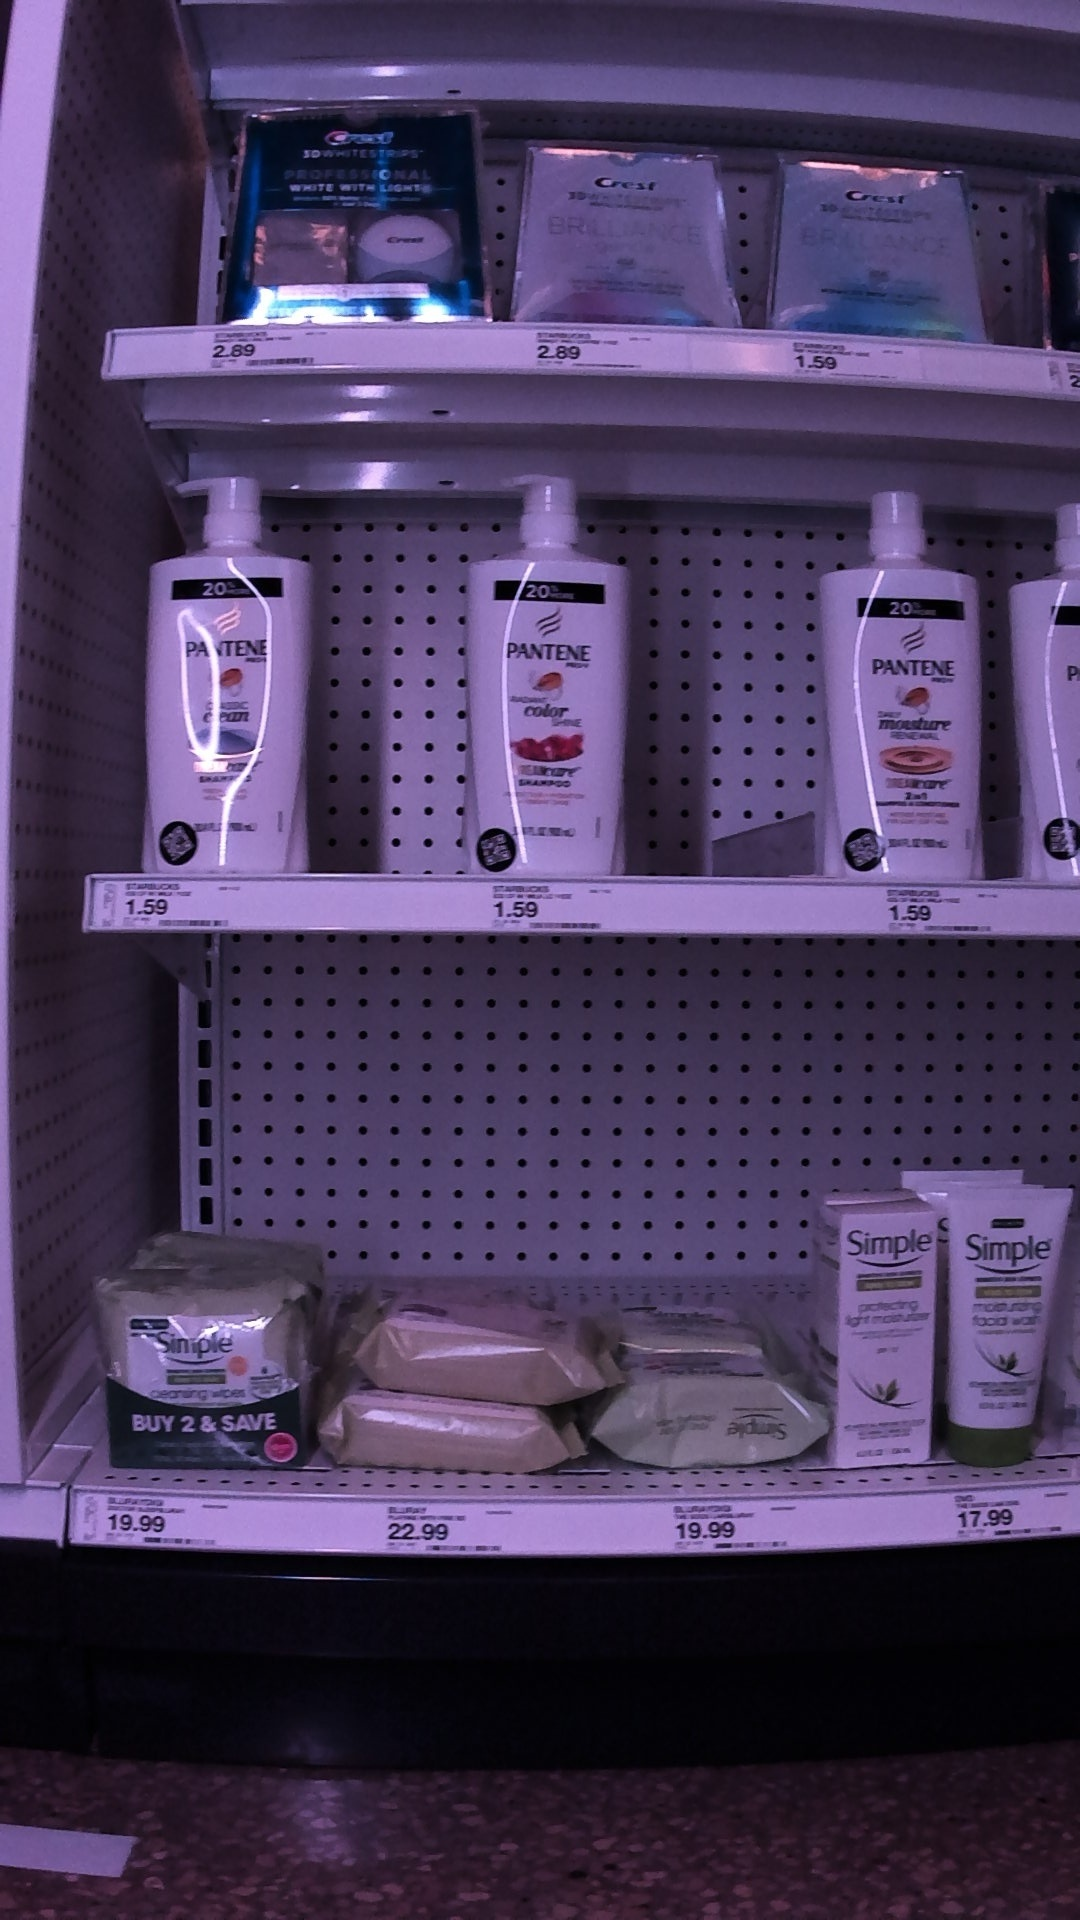ptag: (782, 328, 924, 392), (529, 316, 655, 384), (380, 1505, 524, 1563), (480, 882, 613, 942), (98, 1493, 235, 1549), (117, 877, 240, 934), (665, 1506, 795, 1557), (884, 884, 998, 942), (949, 1495, 1077, 1544), (206, 326, 324, 375)
